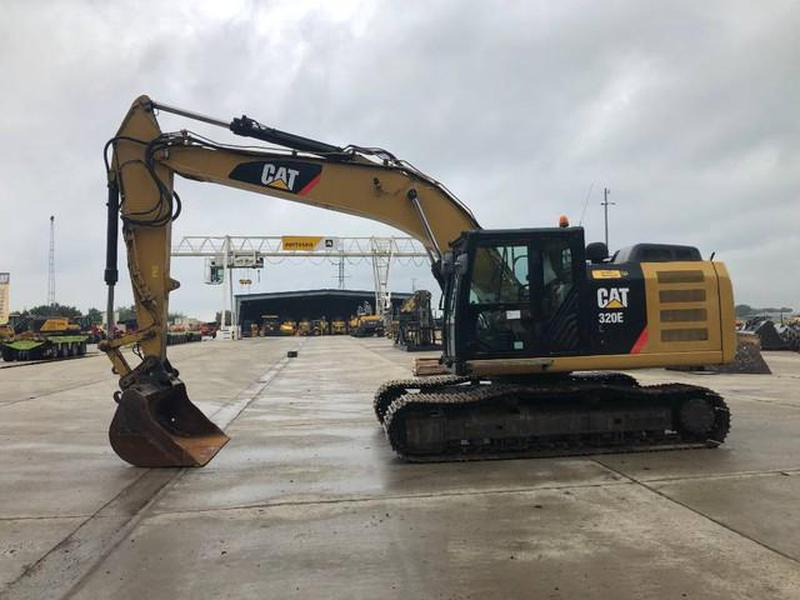shovel: (94, 93, 754, 475)
